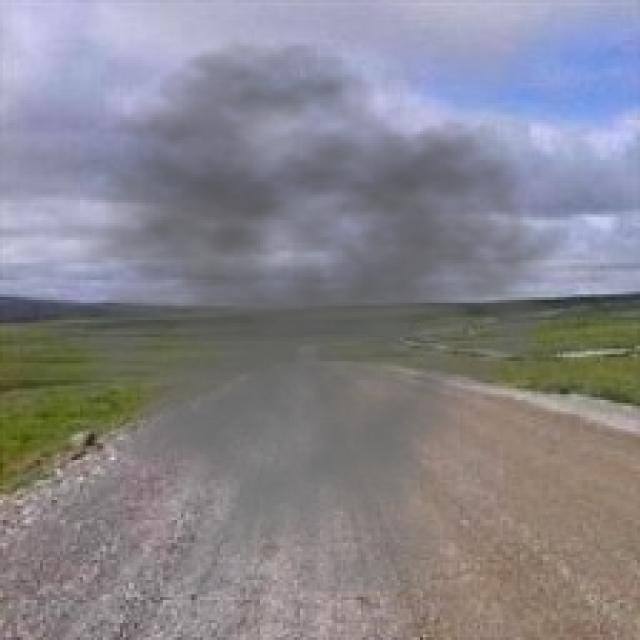Smoke: (11, 39, 572, 592)
